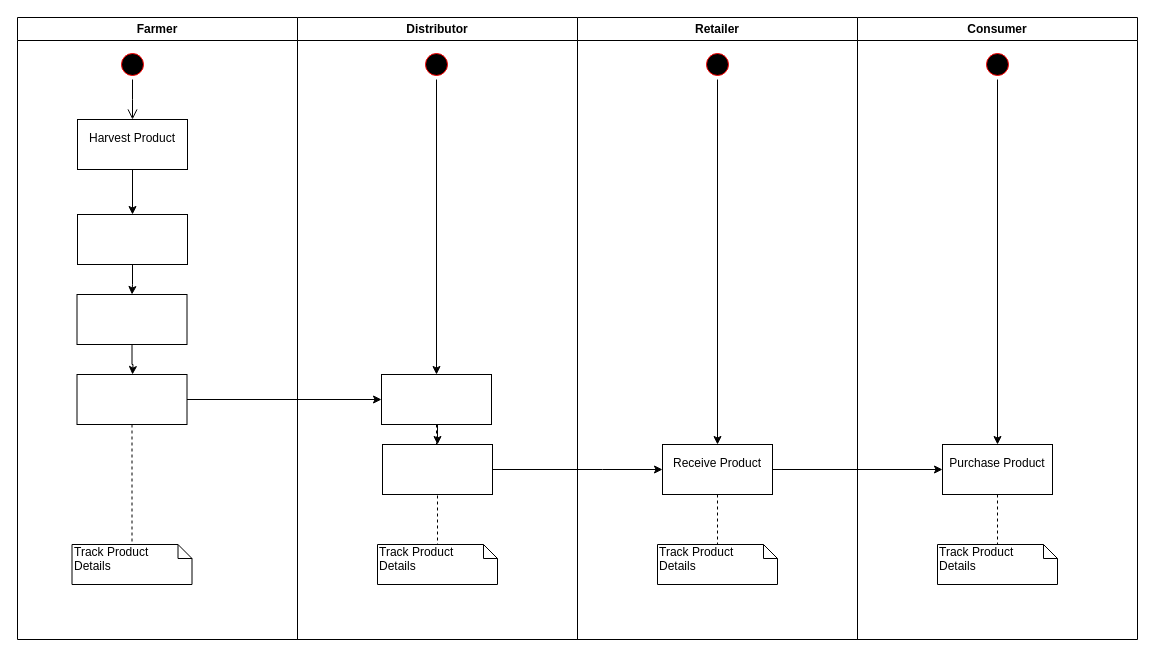
The diagram is 1155 pixels wide and 657 high, and some of its shapes have lost their labels. Here are the shapes that lost their labels. From the top down, the centre of each, then its label:
[132,239]: Process Product
[131,319]: Pack Product
[131,399]: Sell Product
[436,399]: Buy Product
[437,469]: Ship Product
